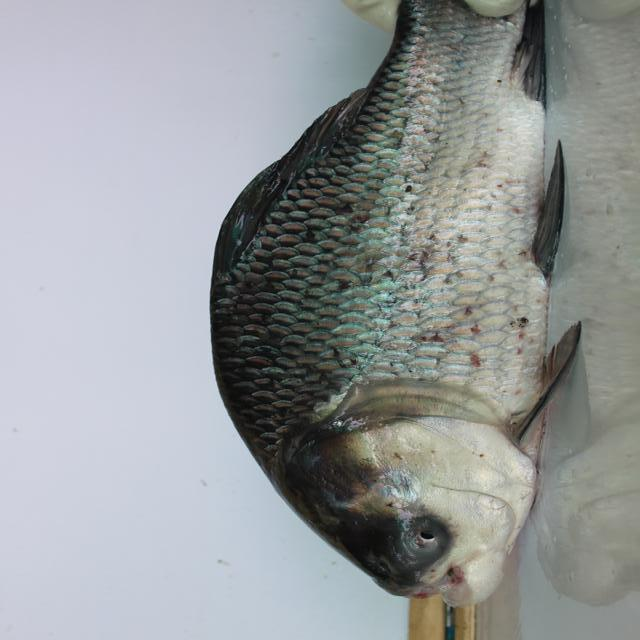Catla: (203, 3, 592, 609)
